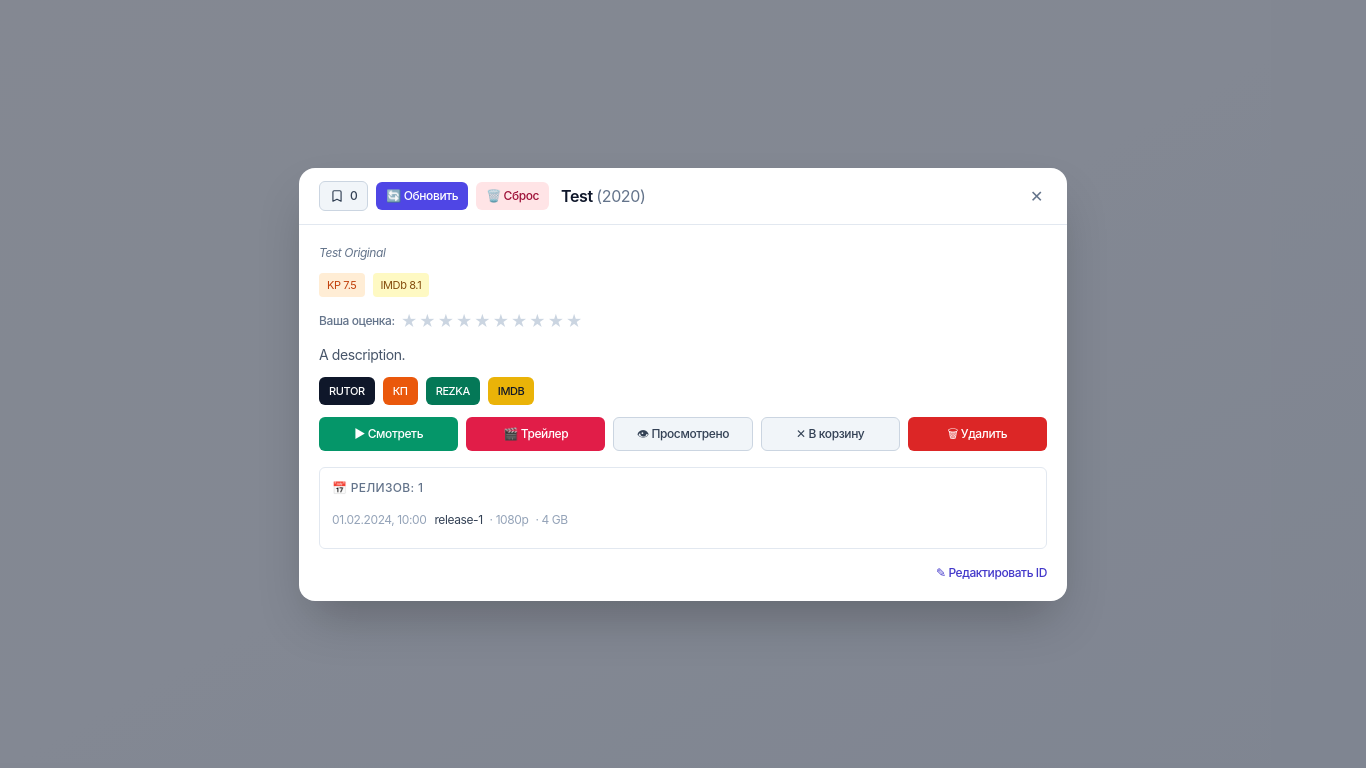
ItemCardModal.vue › opens the reset dialog when the header button is clicked
Click the button with test id "item-modal-open-reset" at [513, 196], box [476,182,549,210]
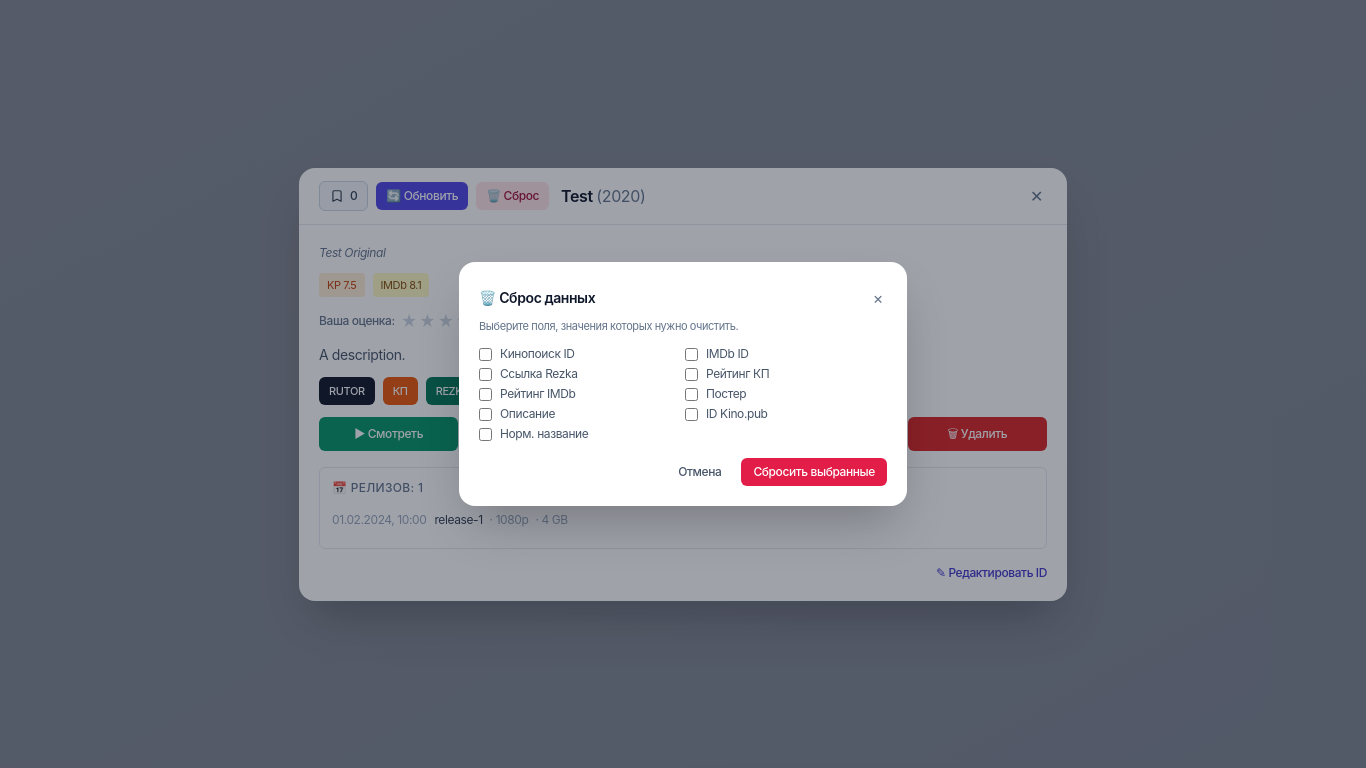
Now the element with test id "item-modal-reset-dialog" is shown, box [459,262,907,506]
Now the checkbox with test id "item-modal-reset-kp_id" is shown, box [479,348,492,361]
